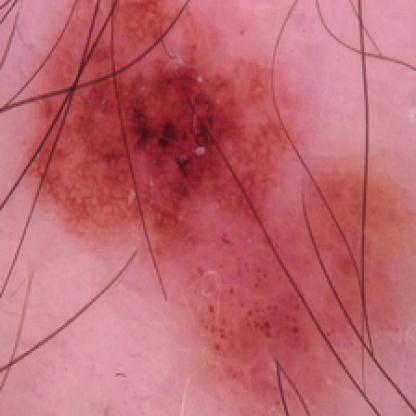benign: (67, 39, 286, 238)
